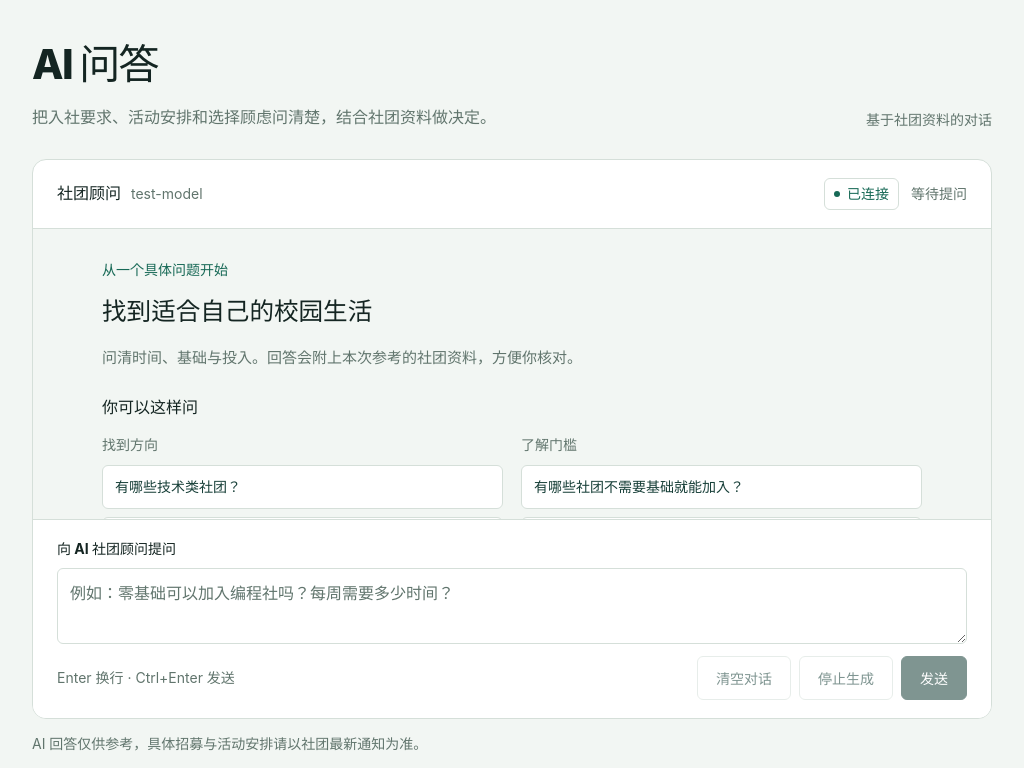
it: Chat decision workspace › keeps partial output and shows stopped status before allowing history to be cleared
This screenshot has width=1024, height=768.
Click the button "有哪些技术类社团？". click: (178, 486)
box: [102,465,503,509]
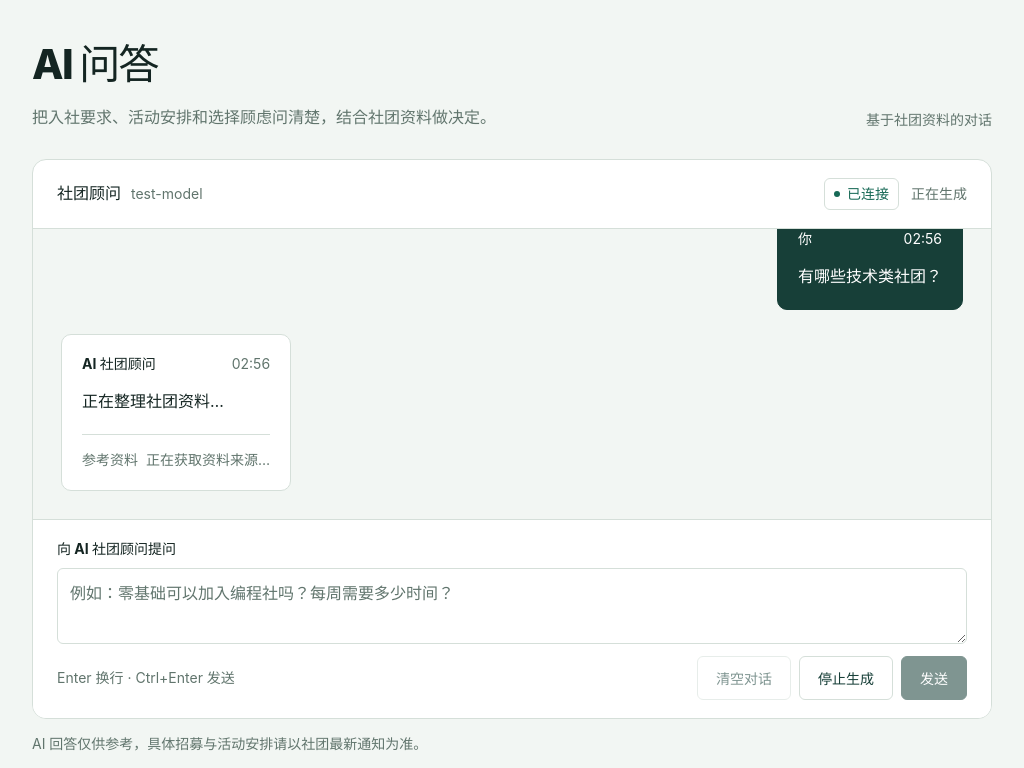
Click the button "停止生成". click: (846, 678)
box: [799,656,893,700]
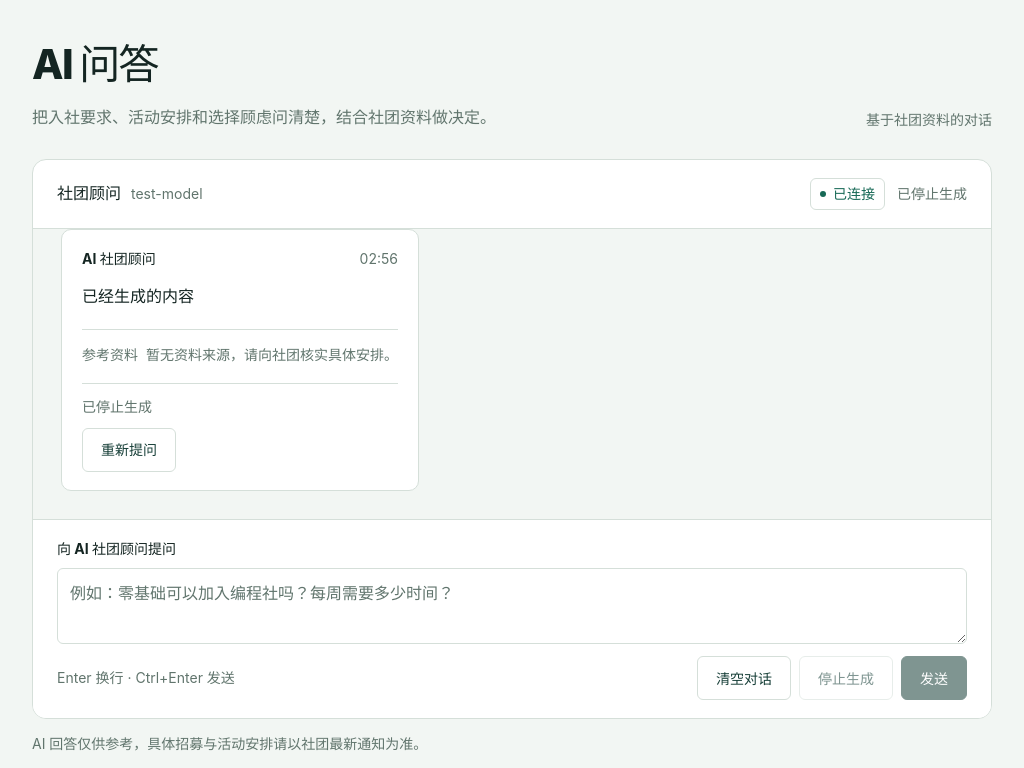
Expected: the element with class "assistant" shows "已经生成的内容", [82,286,194,306]
Expected: the text "已停止生成" is shown, [897,183,967,205]
Expected: the button "停止生成" is disabled, [799,656,893,700]
Click the button "清空对话". click: (744, 678)
box: [697,656,791,700]
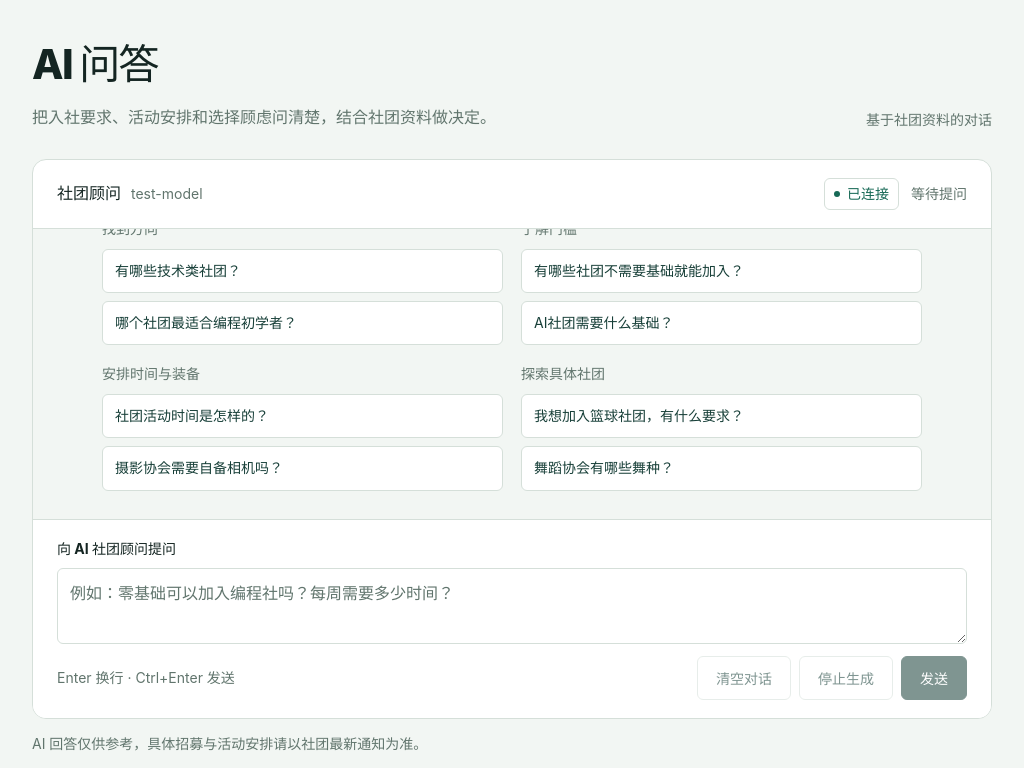
Expected: the button "清空对话" is disabled, [697,656,791,700]
